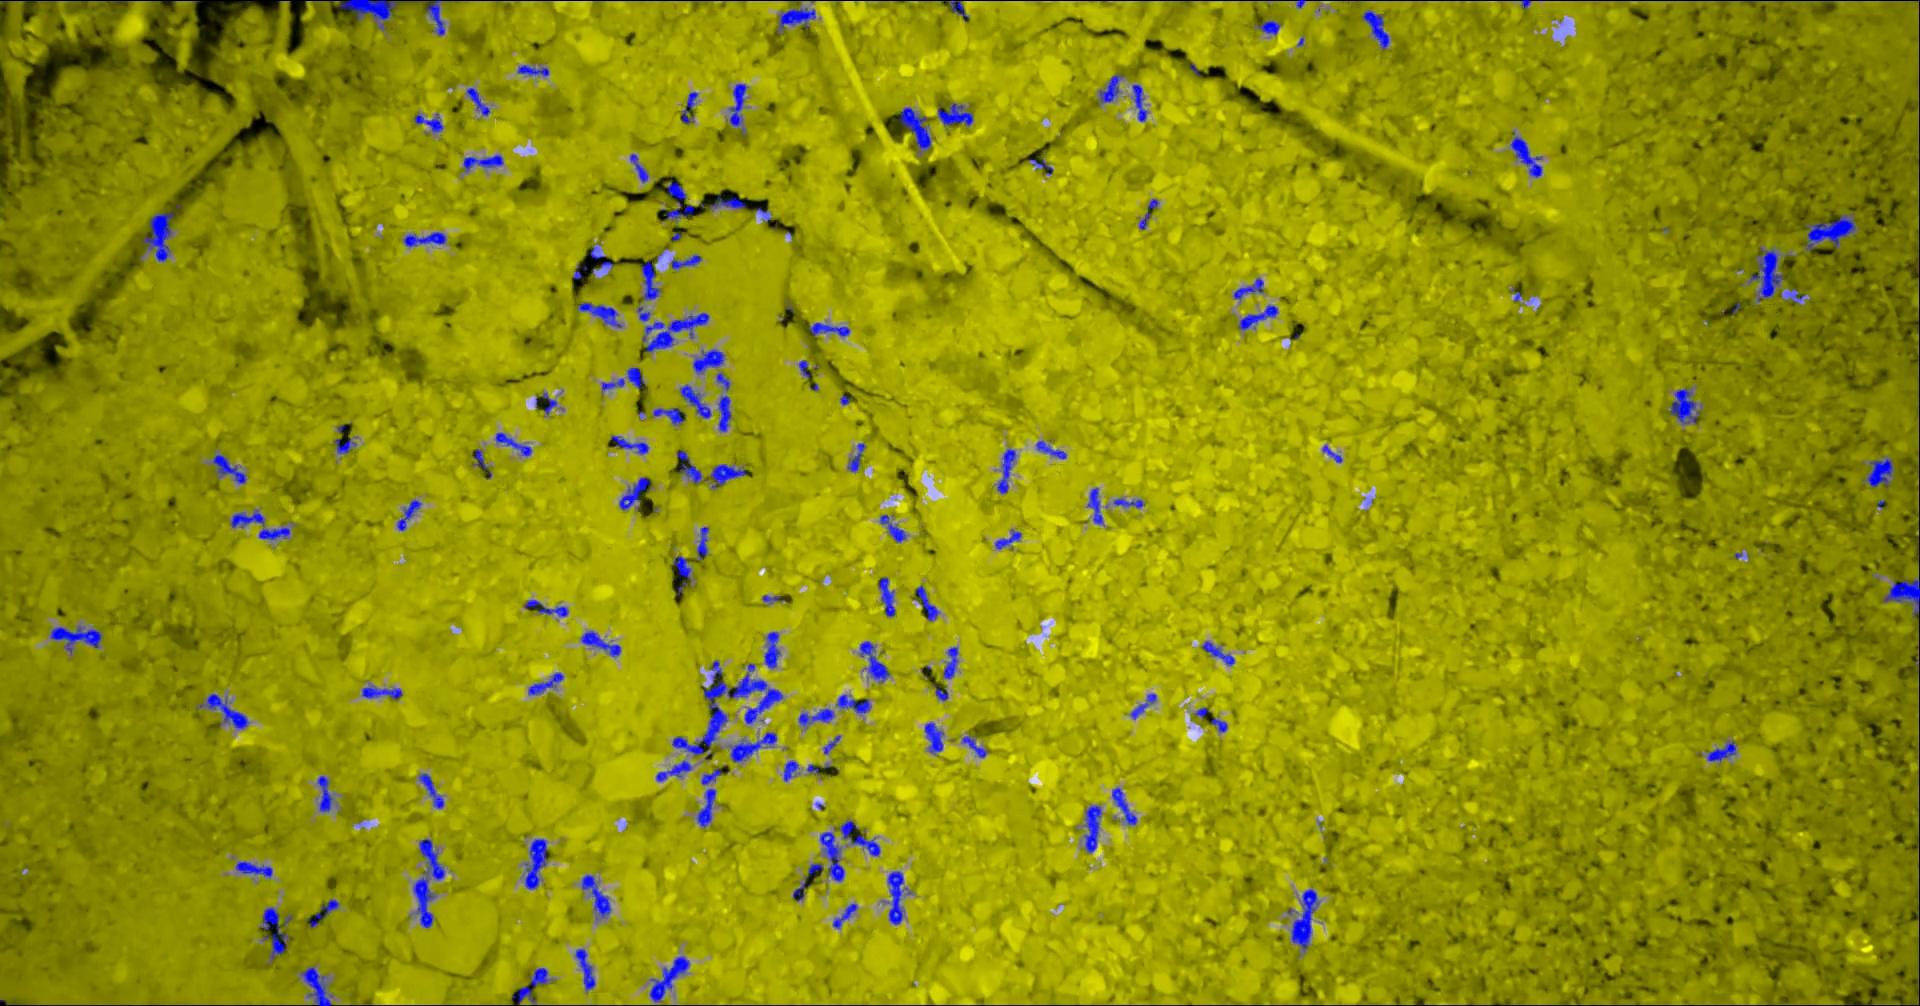ant: (413, 838, 444, 927), (643, 312, 709, 351), (1749, 246, 1783, 301), (649, 955, 690, 1001), (1804, 215, 1855, 250), (230, 509, 290, 539), (1291, 888, 1318, 951), (199, 694, 248, 728), (259, 907, 290, 960), (834, 821, 879, 855), (142, 211, 173, 260), (50, 625, 102, 653), (1510, 131, 1542, 177), (510, 967, 549, 1005), (729, 732, 776, 761), (898, 107, 930, 150), (1883, 579, 1919, 616), (819, 831, 844, 882), (858, 641, 889, 682), (582, 874, 610, 917), (301, 967, 331, 1005), (524, 838, 547, 888), (664, 180, 693, 218), (1669, 387, 1699, 423), (577, 302, 621, 326), (1363, 10, 1389, 50), (679, 384, 710, 418), (212, 453, 246, 483), (776, 8, 815, 33), (580, 630, 620, 655), (618, 478, 649, 509), (601, 367, 643, 390), (1238, 305, 1277, 329), (1111, 788, 1137, 824), (888, 871, 905, 923), (307, 898, 338, 927), (418, 774, 443, 808), (575, 948, 596, 989), (996, 448, 1015, 493), (676, 450, 701, 483), (1083, 805, 1101, 852), (728, 83, 747, 126), (495, 432, 531, 455), (710, 464, 745, 486), (527, 672, 563, 695), (1201, 641, 1234, 666), (916, 586, 938, 620), (396, 499, 422, 530), (655, 760, 691, 781), (696, 788, 715, 827), (1865, 459, 1892, 486), (879, 514, 905, 542), (937, 103, 971, 124), (692, 349, 723, 373), (640, 260, 659, 298), (610, 434, 648, 453), (877, 575, 895, 616), (524, 600, 568, 616), (672, 555, 690, 594), (797, 708, 833, 727), (1098, 74, 1123, 102), (466, 86, 489, 116), (1233, 277, 1263, 298), (836, 694, 870, 713), (463, 154, 503, 170), (1130, 694, 1156, 719), (403, 231, 444, 246), (1087, 486, 1103, 525), (1138, 198, 1158, 229), (832, 903, 856, 929), (924, 721, 943, 753), (1705, 741, 1735, 761), (1035, 439, 1065, 459), (809, 323, 850, 337), (653, 406, 684, 424), (1131, 84, 1147, 121), (763, 631, 778, 668), (235, 861, 272, 876), (629, 152, 648, 182), (961, 735, 987, 757), (681, 91, 697, 123), (413, 113, 442, 131), (941, 0, 968, 19), (994, 528, 1021, 547), (317, 775, 331, 810), (847, 442, 863, 471), (709, 196, 745, 208), (535, 392, 556, 414), (589, 246, 612, 267), (670, 254, 701, 269), (361, 687, 401, 699), (717, 395, 730, 431), (943, 647, 957, 678), (696, 527, 709, 560), (517, 64, 549, 76), (792, 876, 809, 901), (1029, 158, 1051, 174), (1322, 445, 1341, 462), (823, 735, 841, 754), (701, 767, 721, 784), (334, 438, 356, 453), (1257, 20, 1280, 34), (1785, 287, 1804, 304), (472, 448, 488, 469), (783, 760, 797, 781), (1112, 498, 1144, 507), (571, 263, 587, 279), (932, 683, 947, 700), (1209, 716, 1225, 732), (797, 359, 810, 377), (716, 372, 729, 390), (808, 862, 822, 875), (637, 306, 649, 321)
